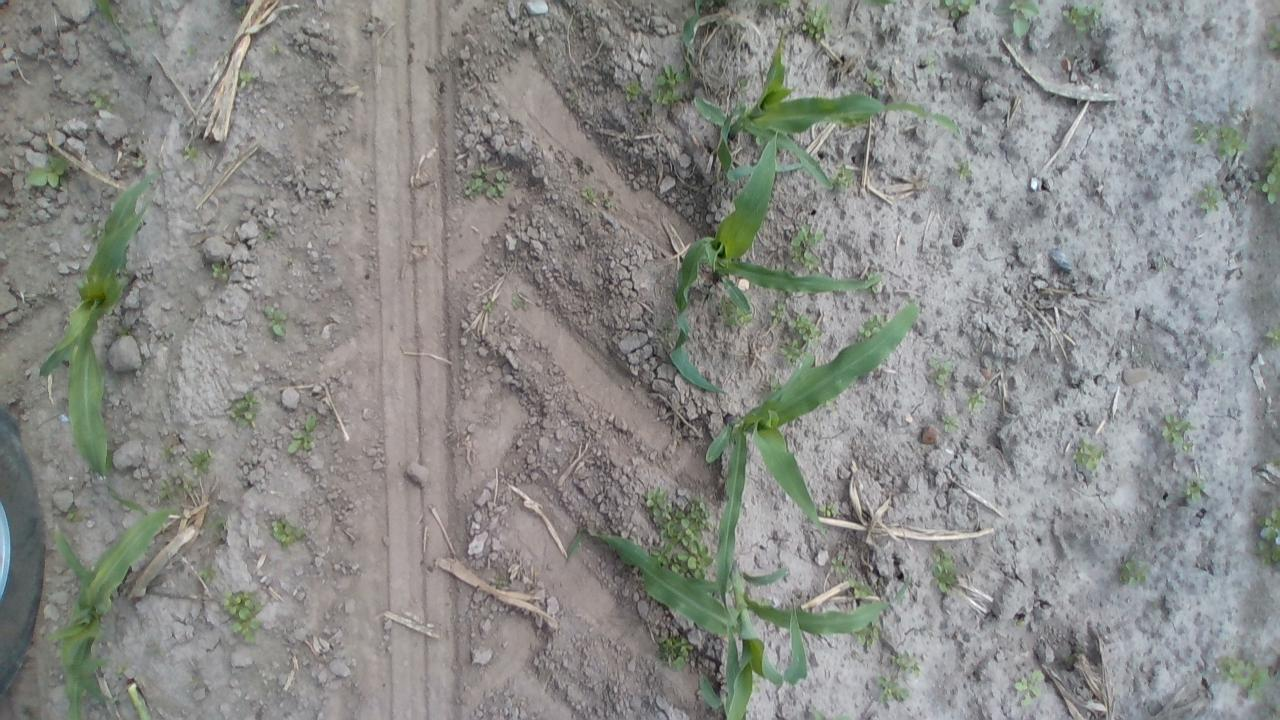Maize: (708, 302, 926, 604), (584, 526, 910, 720), (668, 132, 881, 396), (686, 11, 960, 189), (42, 169, 170, 511), (55, 486, 178, 720), (124, 678, 158, 720)
Weeds: (1216, 655, 1276, 699), (223, 590, 262, 642), (674, 500, 708, 556), (462, 164, 511, 200), (1253, 146, 1280, 206), (1062, 1, 1105, 38), (1255, 502, 1280, 564), (800, 5, 836, 44), (26, 154, 65, 188), (227, 390, 260, 430), (871, 674, 912, 706), (790, 224, 821, 266), (288, 412, 317, 456), (654, 64, 684, 106), (933, 548, 960, 594), (670, 552, 714, 580), (1162, 412, 1194, 450), (1216, 124, 1250, 158), (1008, 0, 1040, 36), (658, 634, 694, 666), (1014, 670, 1044, 706), (646, 486, 673, 524), (271, 518, 305, 546), (1074, 440, 1104, 471), (786, 313, 819, 340), (264, 305, 290, 338), (1118, 557, 1148, 585), (721, 303, 752, 329), (930, 357, 954, 387), (856, 312, 880, 342), (1262, 16, 1280, 55), (890, 650, 919, 672), (830, 164, 854, 190), (779, 342, 810, 362), (1184, 475, 1206, 502), (1195, 187, 1220, 210), (648, 545, 672, 568), (192, 451, 214, 475), (580, 184, 602, 207), (1191, 122, 1214, 144), (857, 628, 879, 650), (944, 0, 978, 12), (90, 90, 110, 110), (766, 300, 784, 322), (816, 501, 838, 518), (864, 71, 887, 87), (940, 415, 960, 432), (211, 263, 228, 283), (967, 394, 985, 412), (626, 80, 645, 97), (1266, 326, 1280, 348), (198, 566, 216, 582), (238, 69, 253, 88), (185, 144, 198, 161), (270, 42, 284, 55)
